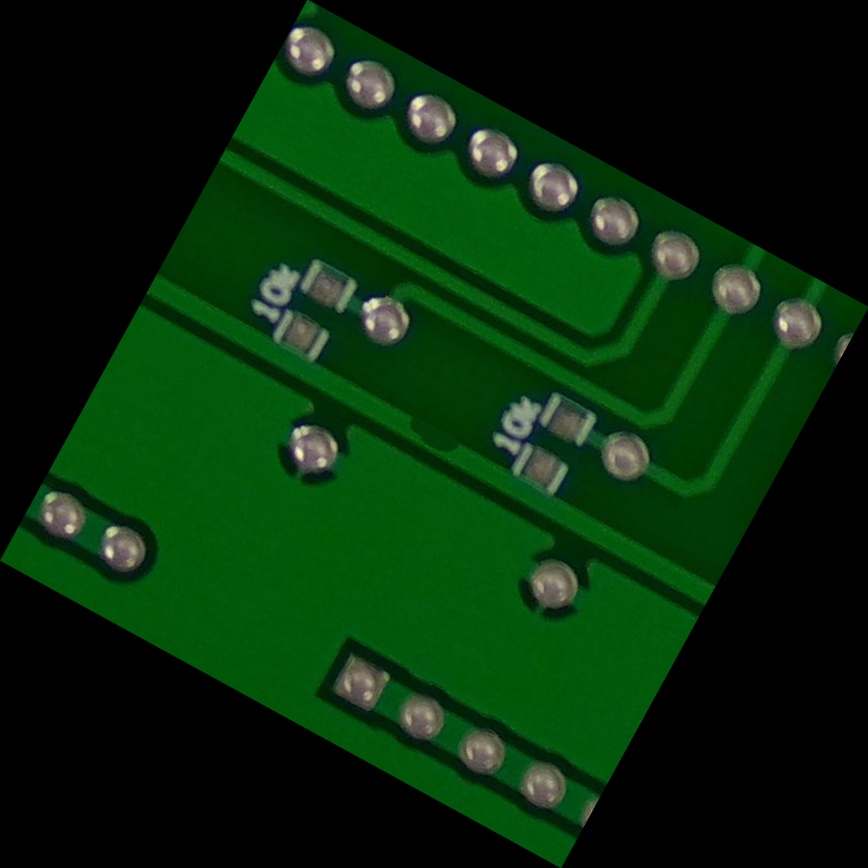mouse_bite: (387, 394, 481, 475)
